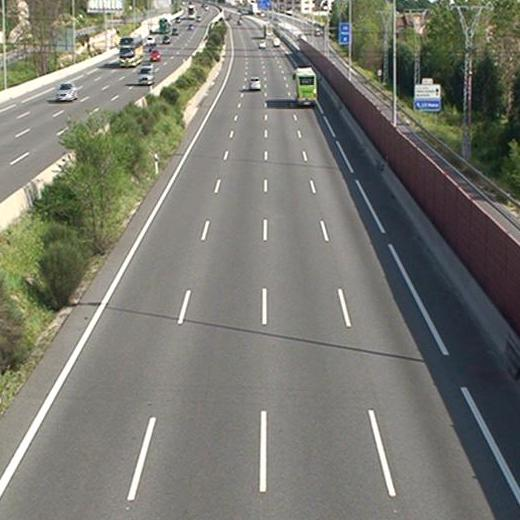bus: (296, 68, 315, 106)
car: (248, 77, 261, 90)
